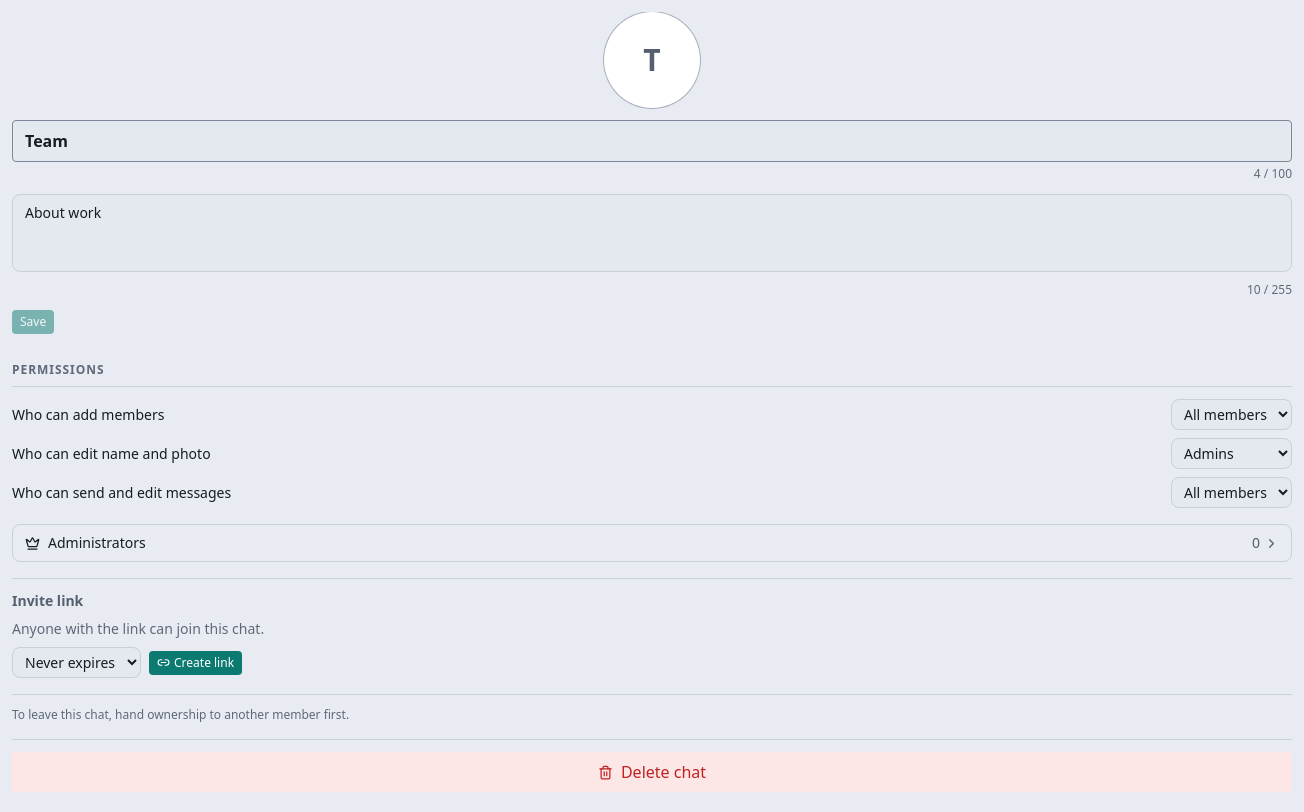
Test: ChatSettingsContent › permissions › reports a failed change
The width and height of the screenshot is (1304, 812).
Expected: the heading "Permissions" is shown, [12,362,1292,387]
Select "Owner only" in the dropdown labelled "Who can add members". click: [1232, 414]
box: [1171,399,1292,430]
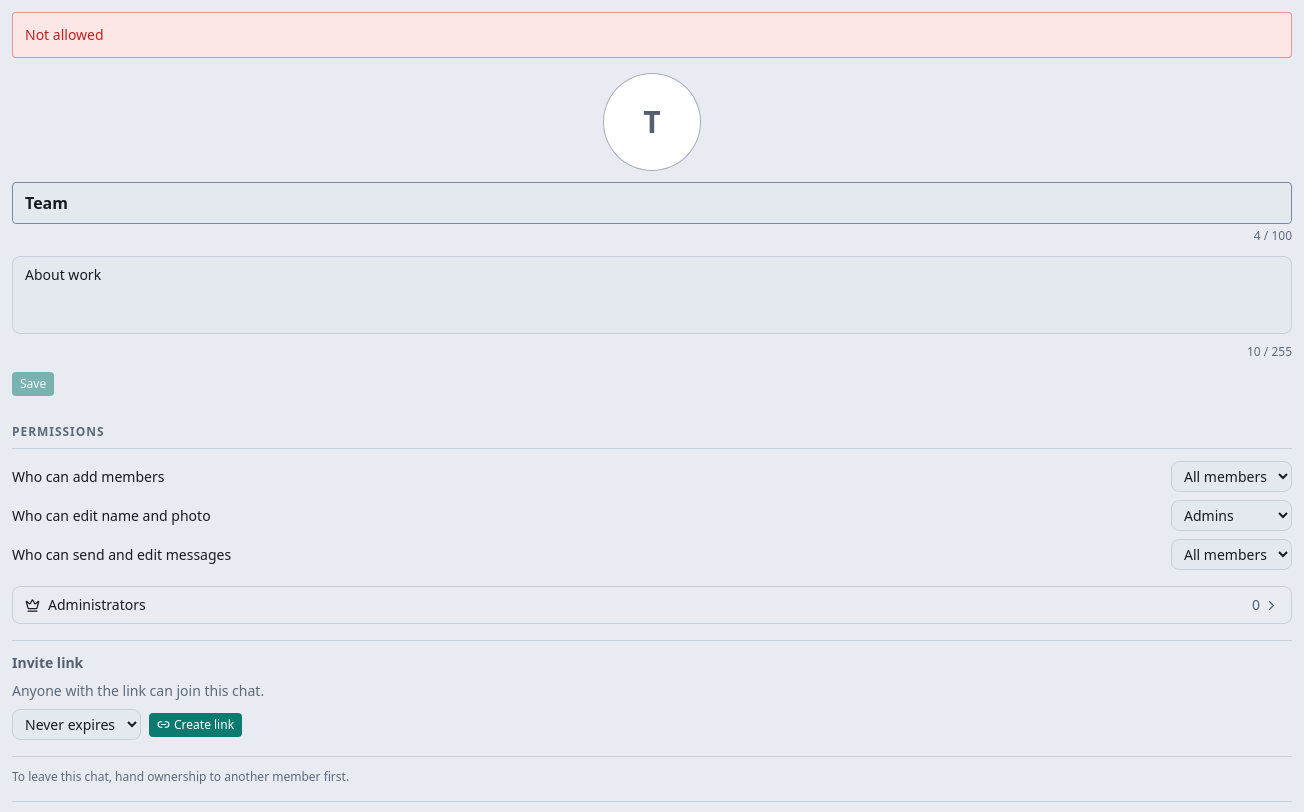
Now the text "Not allowed" is shown, box [12,12,1292,58]
